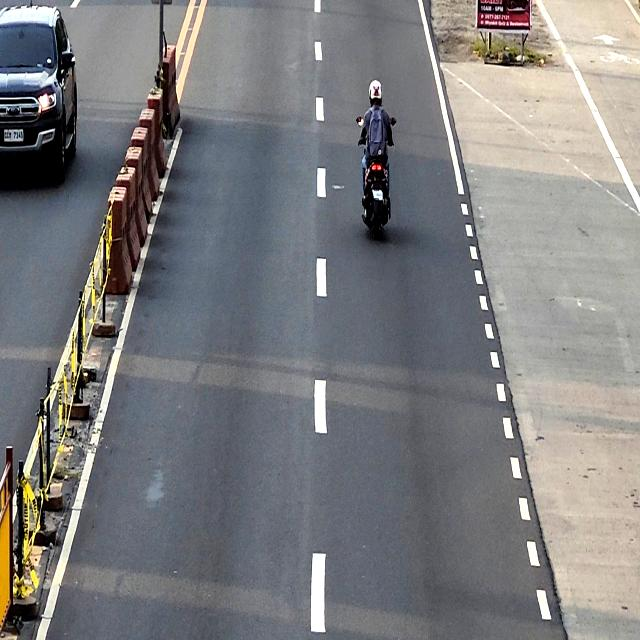Car: (0, 3, 77, 186)
License-Plate: (4, 129, 24, 142), (372, 190, 384, 202)
Motorcycle: (356, 116, 397, 240)
